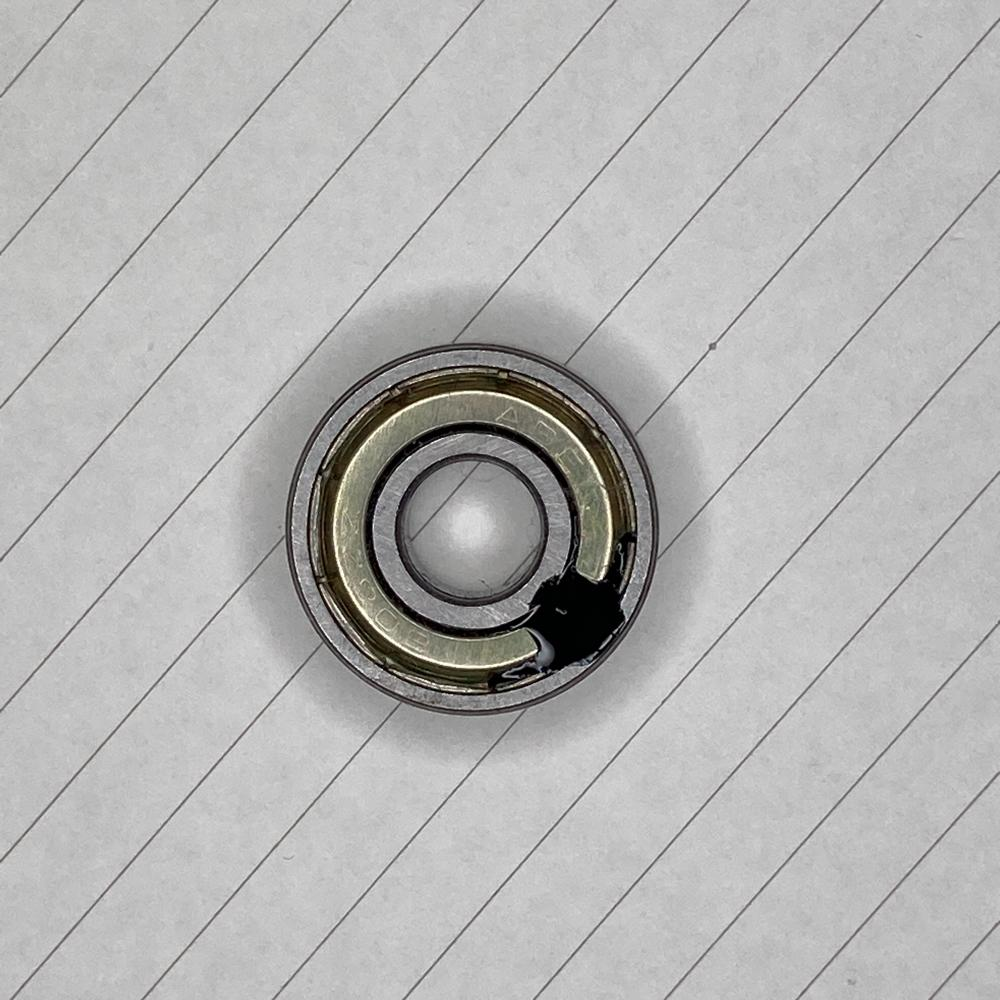ball_bearing_oil_stain: (282, 341, 662, 718)
